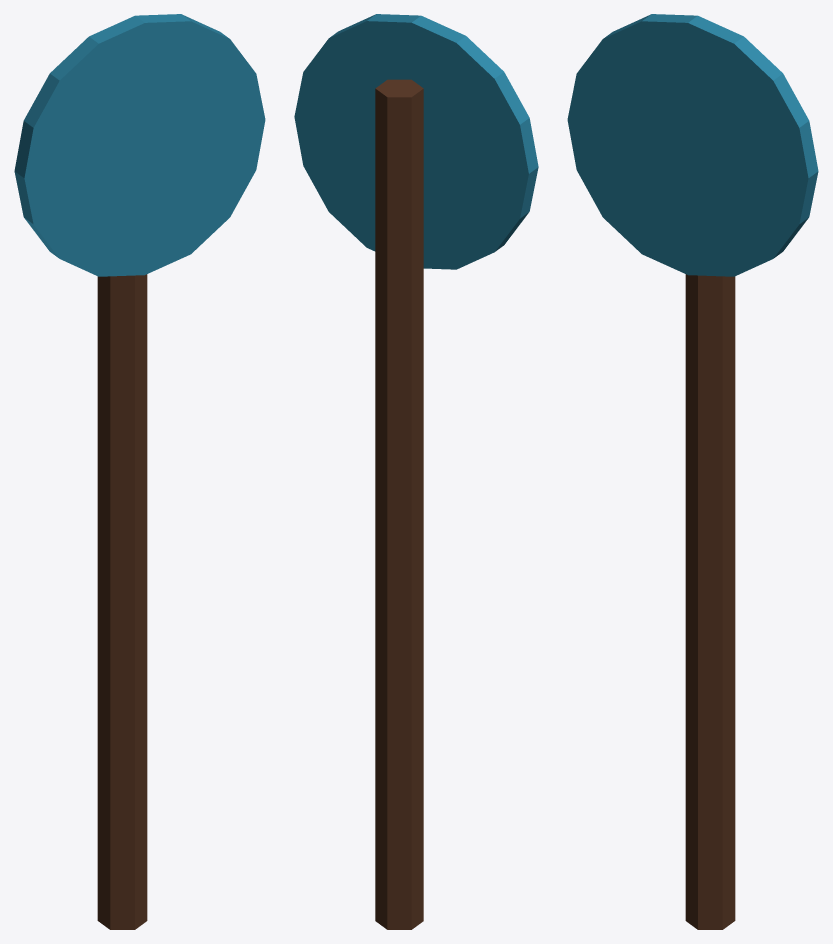
The model's file is trail_sign.glb.
3 renders of one model, left to right at view 1: azimuth 30°, elevation 25°; view 2: azimuth 150°, elevation 25°; view 3: azimuth 330°, elevation 25°, orthographic. The views are drawn at different scales.
Parts seen in each view (by area): view 1: trail_sign; view 2: trail_sign; view 3: trail_sign.
Boxes of the visible parts, bbox=[...] form: trail_sign: bbox=[14, 14, 265, 929]; trail_sign: bbox=[294, 14, 538, 929]; trail_sign: bbox=[567, 14, 818, 929].
Size of the model in its own units: 0.5601 by 2.03 by 0.14.
